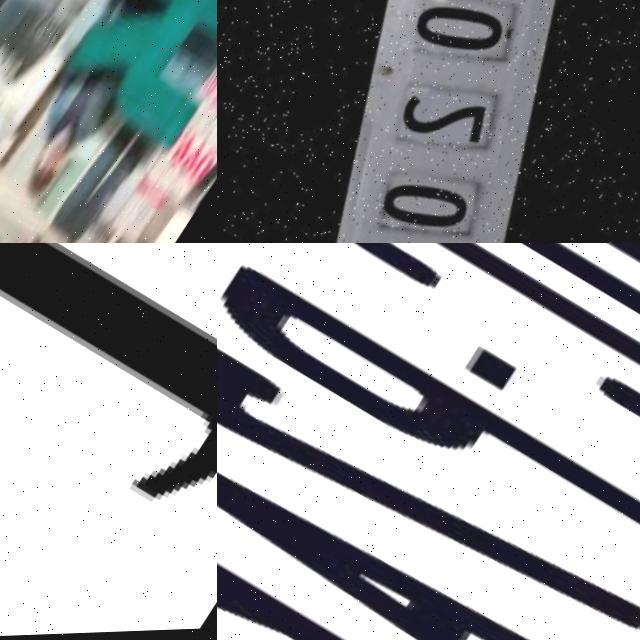0: (352, 130, 500, 243), (384, 0, 535, 95)
2: (372, 46, 517, 185)
7: (217, 310, 640, 640), (354, 243, 640, 344)
A: (217, 387, 640, 640)
C: (265, 243, 640, 516)
D: (298, 243, 640, 420)
K: (217, 469, 592, 640), (47, 0, 217, 166)
P: (217, 243, 640, 633)
T: (0, 243, 217, 567)
